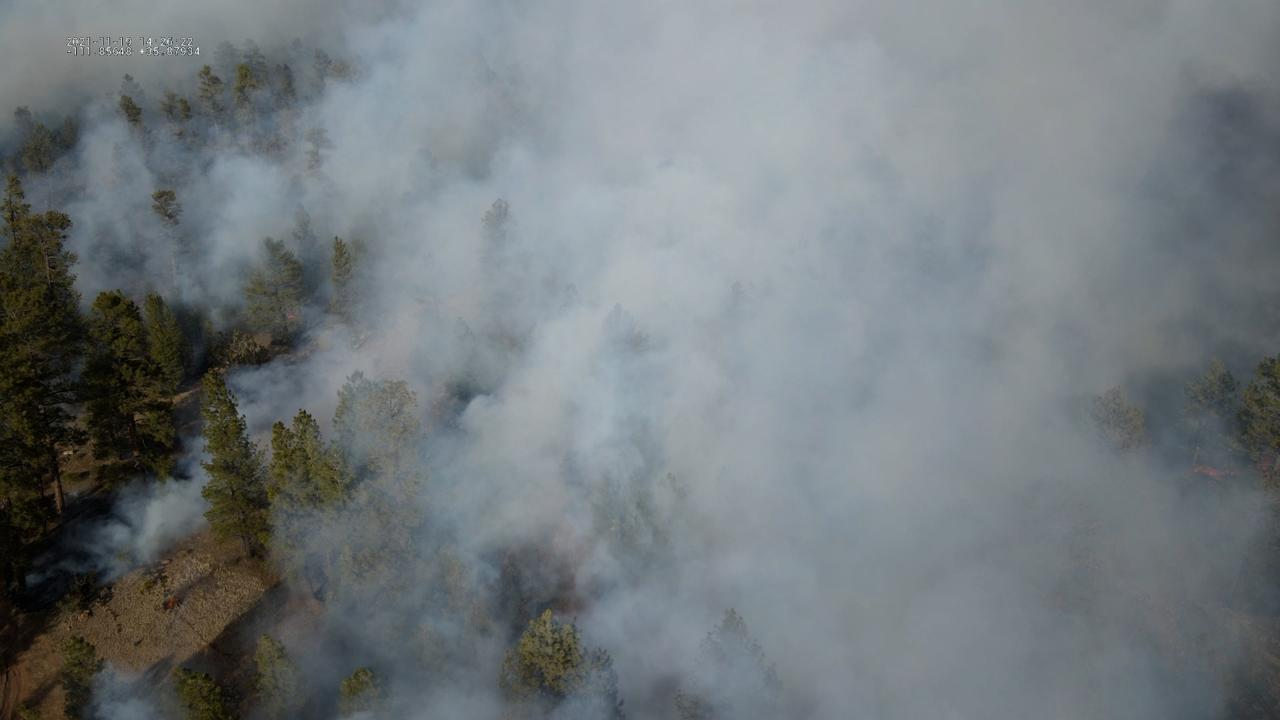fire: (1188, 463, 1230, 481), (166, 597, 177, 610), (286, 312, 297, 320)
smoke: (0, 0, 1280, 720)
